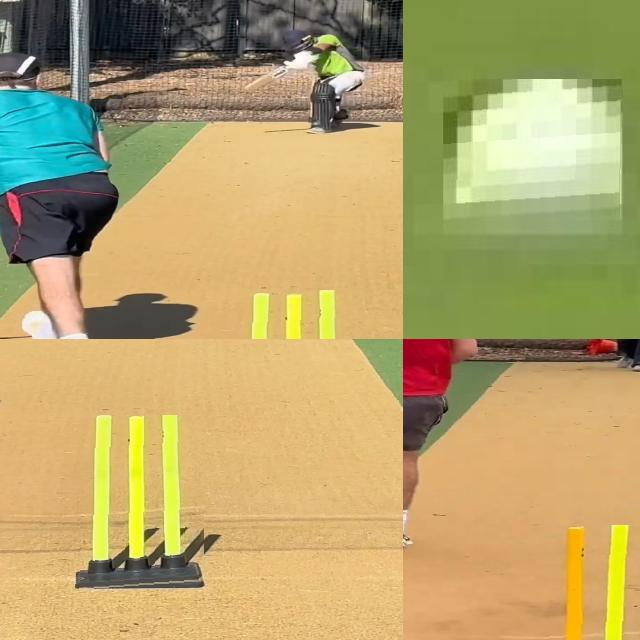Cricket ball: (444, 79, 622, 231)
Stumps: (74, 415, 206, 590), (543, 525, 640, 640), (232, 290, 365, 339)
